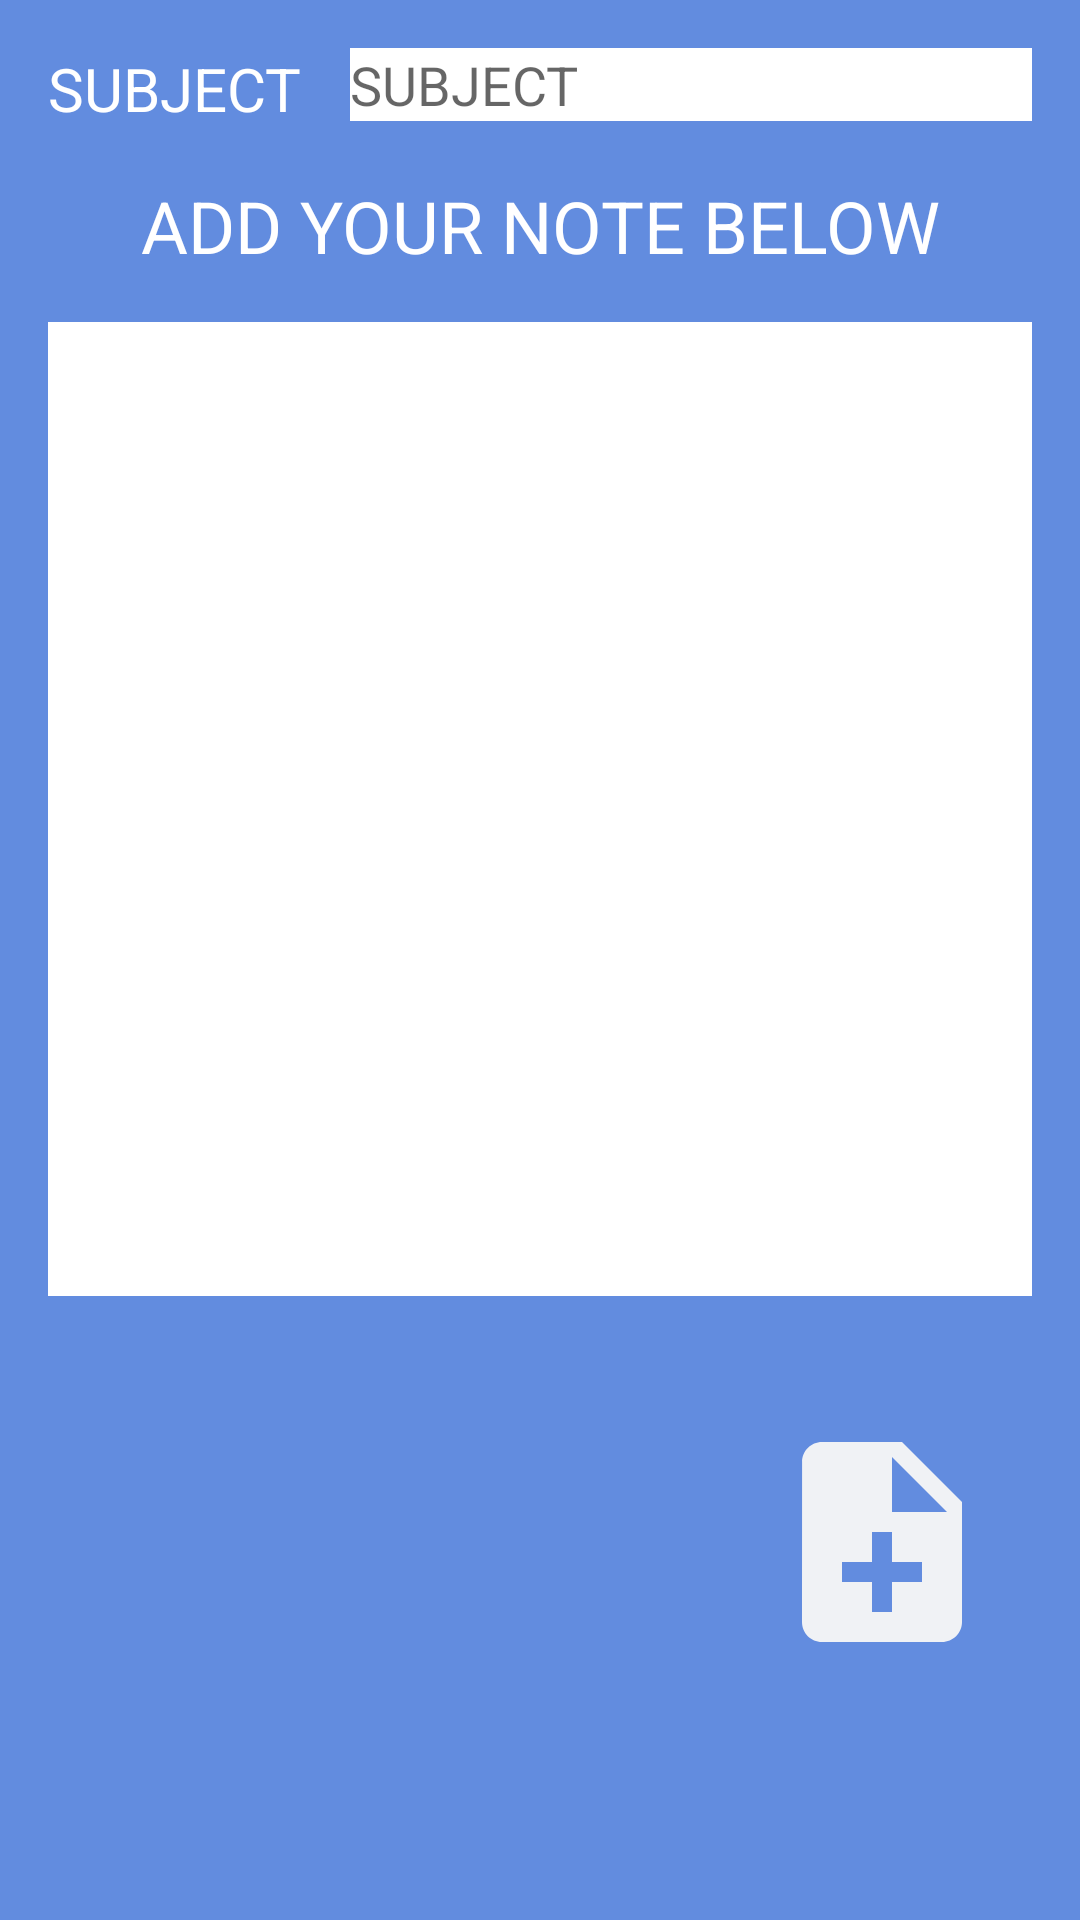

Where icons sit on this 1080x1920 app screen, as {"x1": x1, "y1": y1, "x2": x2, "y2": y2}:
addnote: {"x1": 802, "y1": 1442, "x2": 962, "y2": 1642}
